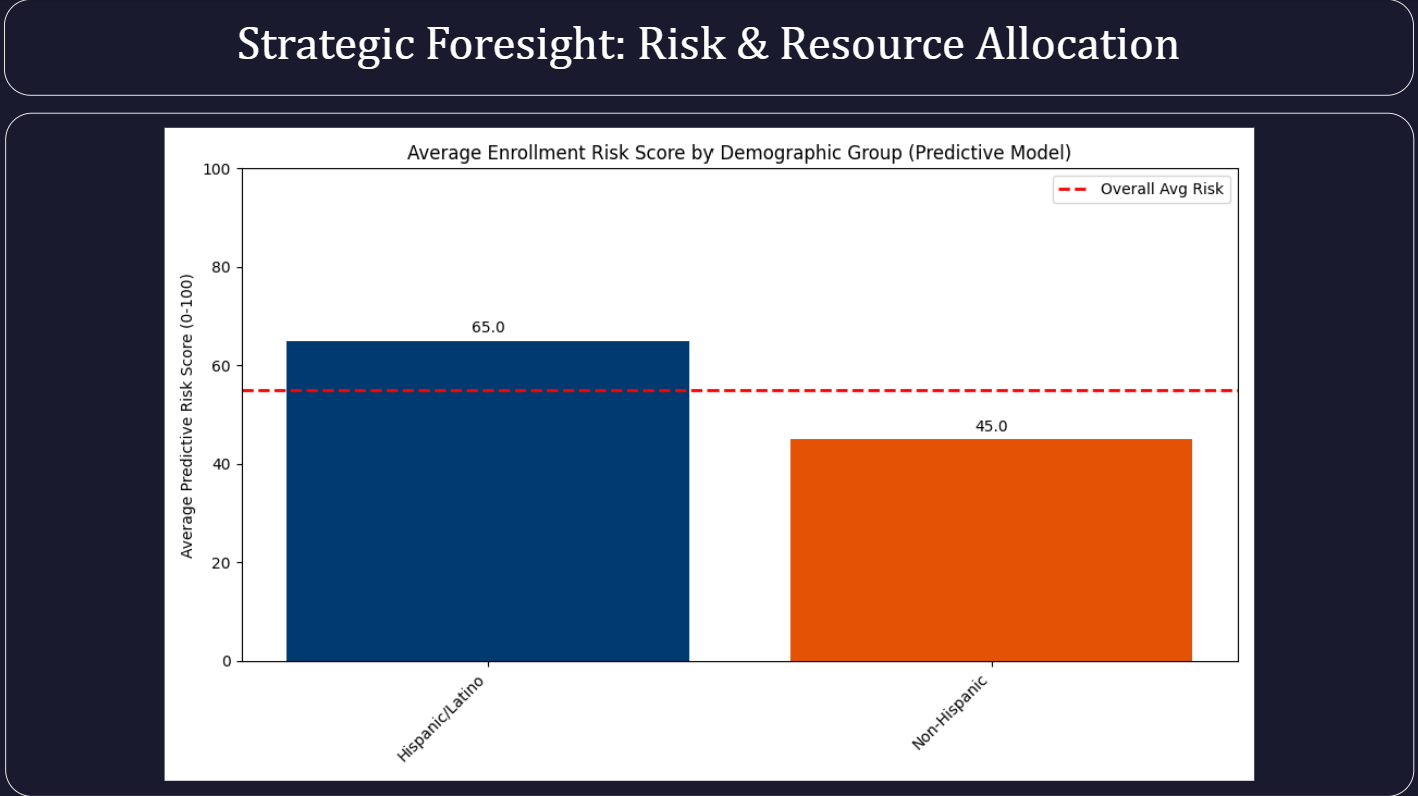

This screenshot's page, from the dashboard's own definition file:
{"tool":"powerbi","page":{"name":"Predictive Targeting for Student Success","canvas":[1280,720],"ordinal":2},"visuals":[{"type":"textbox","box":[4.9,0,1270.5,86.8],"z":0},{"type":"pythonVisual","fields":{"Values":["public ie_program_evaluation_metrics.demographic_group","public ie_program_evaluation_metrics.Risk_Score"]},"box":[5.4,103.1,1269.9,616.9],"z":1000}]}

Visuals, with their boxes in screenshot pixels (x1, y1, x2, y2), scaled from the page's 1280x720 canvas onto the 1418x796 screenshot:
textbox: 5/0/1413/96
pythonVisual - public ie_program_evaluation_metrics.demographic_group x public ie_program_evaluation_metrics.Risk_Score: 6/114/1413/795
